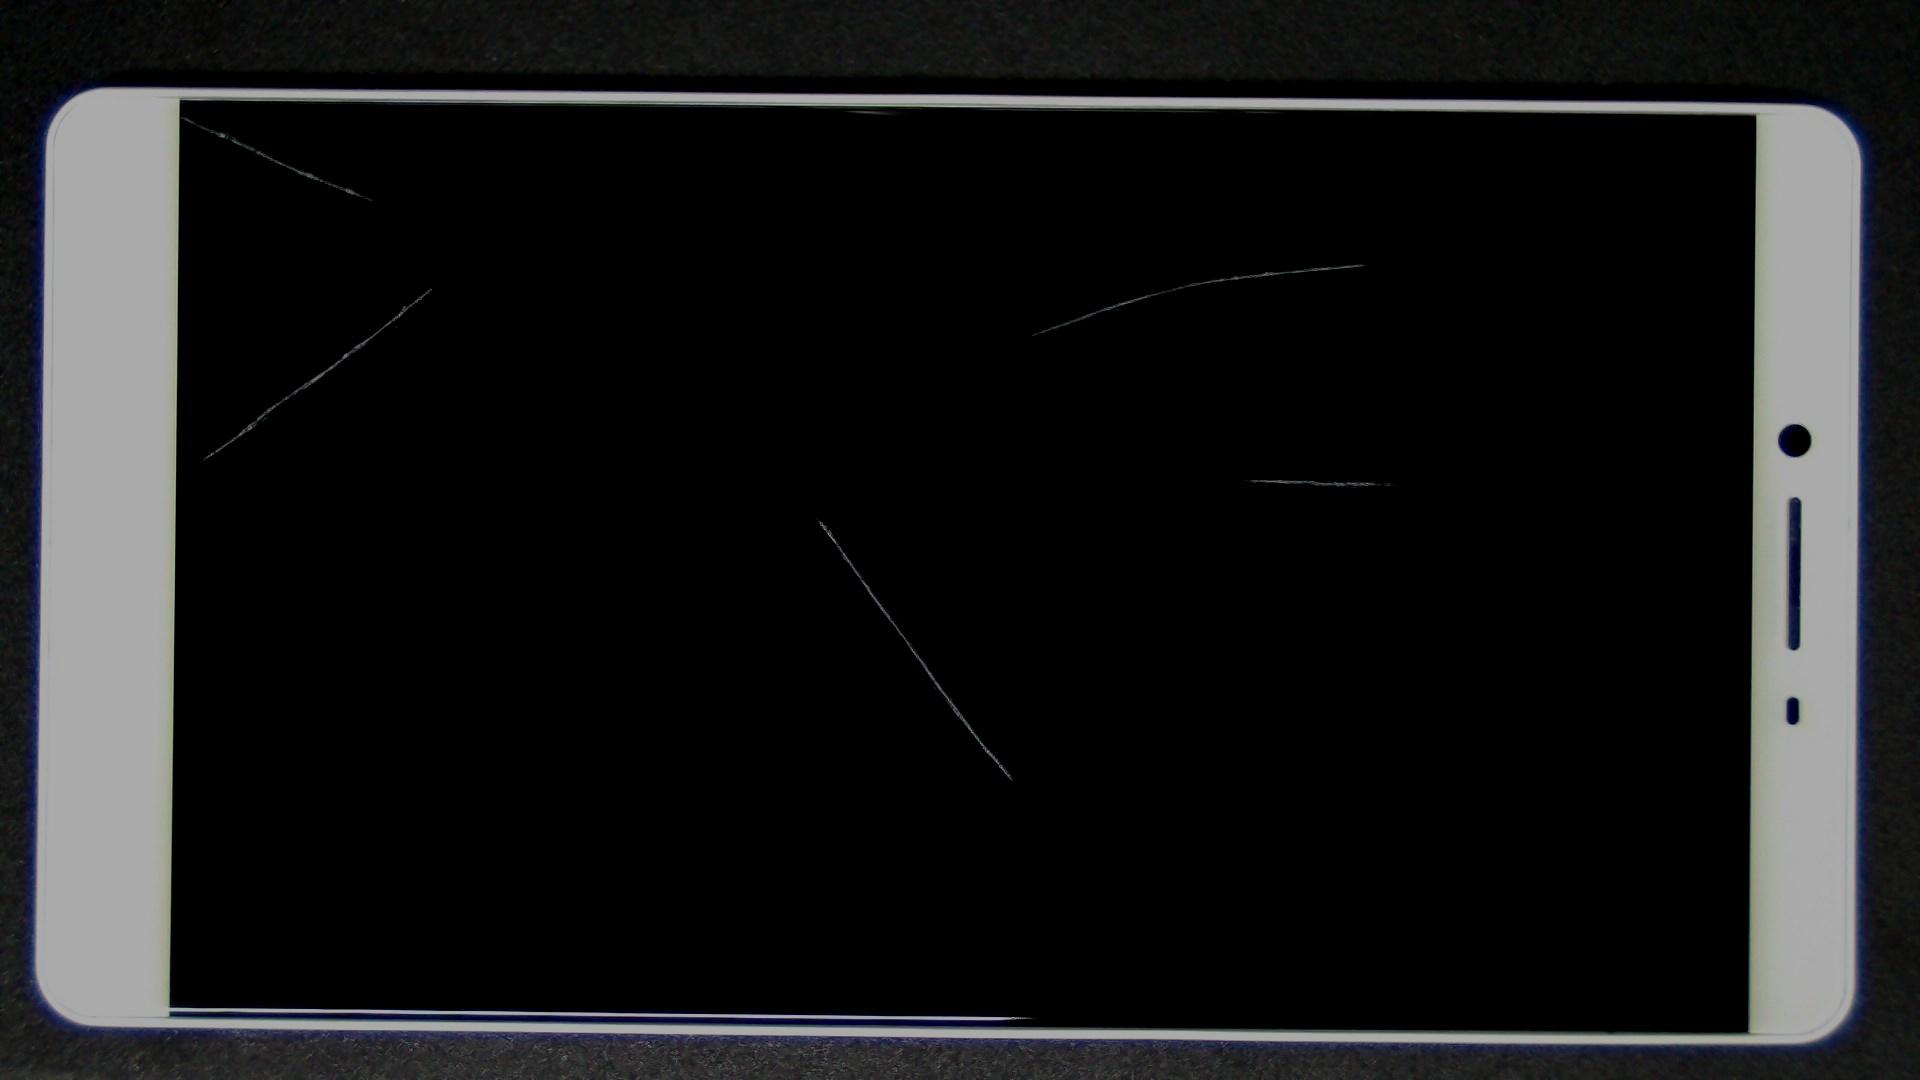oil: (621, 239, 1859, 717), (407, 257, 1222, 771), (679, 131, 1920, 396), (216, 141, 641, 431), (91, 57, 272, 171)
